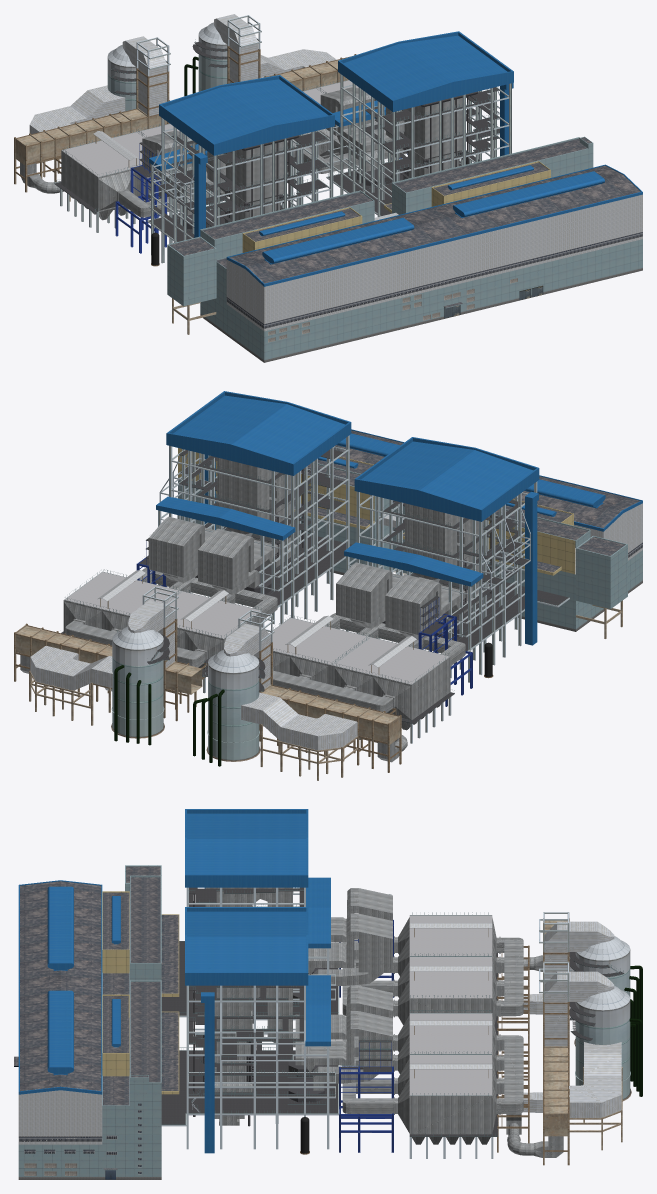
The model's file is quanchang.fbx.
3 renders of one model, top to bottom at view 1: azimuth 30°, elevation 25°; view 2: azimuth 150°, elevation 25°; view 3: azimuth 270°, elevation 25°, orthographic. The views are drawn at different scales.
Visible parts, largest first — view 1: quanchang; view 2: quanchang; view 3: quanchang.
Boxes of the visible parts, x1,y1,x2,y2 form: quanchang: (14,14,642,362); quanchang: (14,391,642,780); quanchang: (14,809,642,1179).
Bounding box in the file's own units: 306 × 115 × 359.
